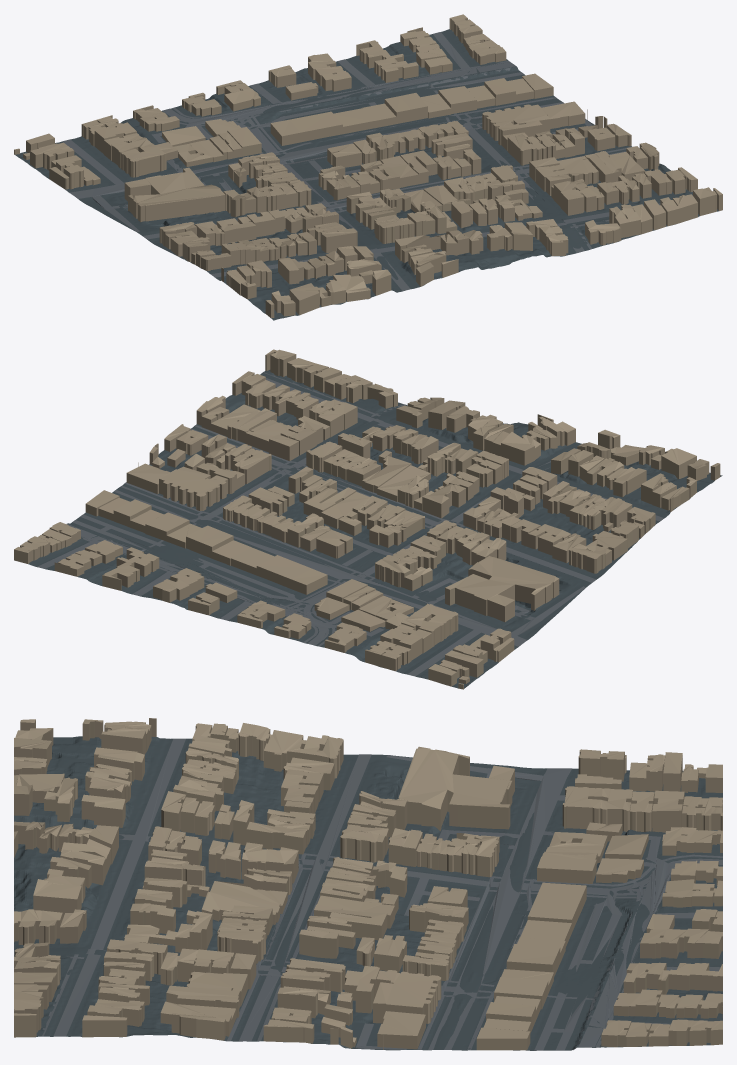
File: epsg26910-1427-10891.lod0.glb
3 views of the same model, one above another, from view 1: azimuth 30°, elevation 25°; view 2: azimuth 150°, elevation 25°; view 3: azimuth 270°, elevation 25° (orthographic). The views are drawn at different scales.
Visible parts, largest first — view 1: epsg26910-1427-10891-lod0; view 2: epsg26910-1427-10891-lod0; view 3: epsg26910-1427-10891-lod0.
Boxes of the visible parts, bbox=[...] form: epsg26910-1427-10891-lod0: bbox=[14, 14, 722, 320]; epsg26910-1427-10891-lod0: bbox=[14, 349, 722, 689]; epsg26910-1427-10891-lod0: bbox=[14, 718, 722, 1050].
Size of the model in its own units: 384 by 36.39 by 384.
